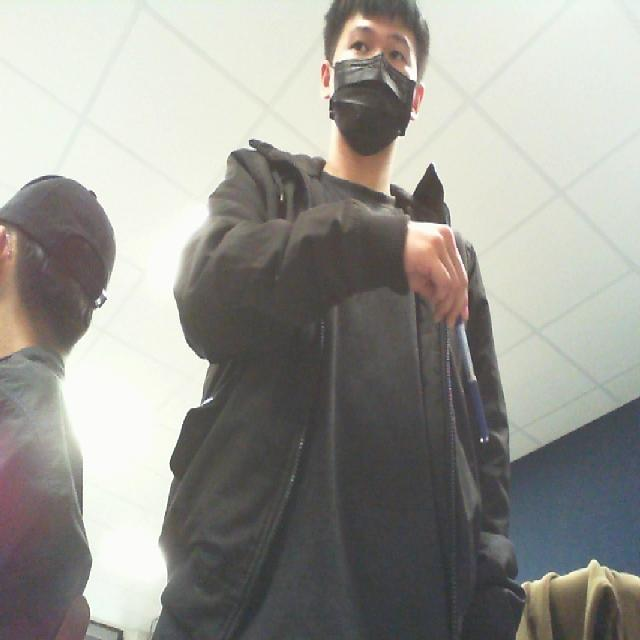Pen: (429, 286, 498, 463)
